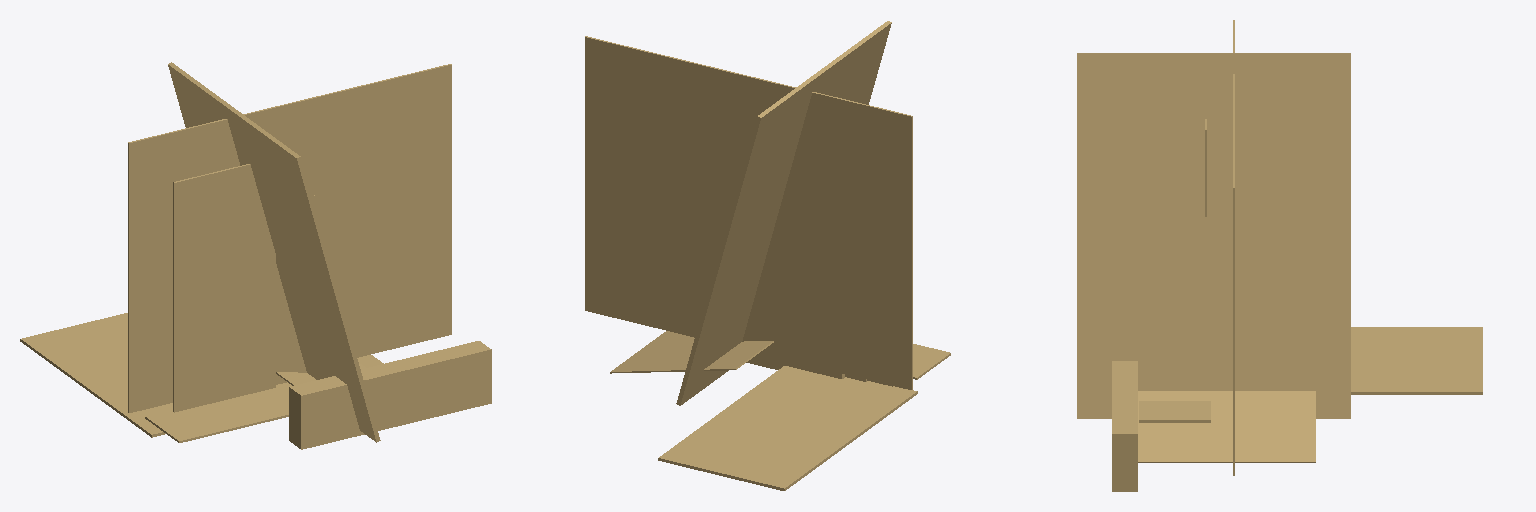
URDF robot description (evolved_design):
<?xml version="1.0" ?>
<robot name="evolved_design">
  <link name="base_link">
    <inertial>
      <mass value="0.001"/>
      <origin xyz="0 0 0" rpy="0 0 0"/>
      <inertia ixx="0.000001" ixy="0" ixz="0" iyy="0.000001" iyz="0" izz="0.000001"/>
    </inertial>
  </link>
  <link name="link_comp_0">
    <inertial>
      <mass value="0.148226"/>
      <origin xyz="0 0 0" rpy="0 0 0"/>
      <inertia ixx="0.000202359" ixy="0" ixz="0" iyy="0.000424693" iyz="0" izz="0.000226318"/>
    </inertial>
    <visual>
      <origin xyz="0 0 0" rpy="0 0 0"/>
      <geometry>
        <box size="0.134762 0.012700 0.127362"/>
      </geometry>
      <material name="link_comp_0_material">
        <color rgba="0.8 0.7 0.5 1"/>
      </material>
    </visual>
    <collision>
      <origin xyz="0 0 0" rpy="0 0 0"/>
      <geometry>
        <box size="0.134762 0.012700 0.127362"/>
      </geometry>
    </collision>
  </link>
  <joint name="base_link_to_link_comp_0" type="fixed">
    <parent link="base_link"/>
    <child link="link_comp_0"/>
    <origin xyz="0.067381 0.006350 0.063681" rpy="0.000000 0.000000 0.000000"/>
  </joint>
  <link name="link_comp_1">
    <inertial>
      <mass value="0.228196"/>
      <origin xyz="0 0 0" rpy="0 0 0"/>
      <inertia ixx="0.000365622" ixy="0" ixz="0" iyy="0.004943317" iyz="0" izz="0.005308082"/>
    </inertial>
    <visual>
      <origin xyz="0 0 0" rpy="0 0 0"/>
      <geometry>
        <box size="0.509832 0.138579 0.004750"/>
      </geometry>
      <material name="link_comp_1_material">
        <color rgba="0.8 0.7 0.5 1"/>
      </material>
    </visual>
    <collision>
      <origin xyz="0 0 0" rpy="0 0 0"/>
      <geometry>
        <box size="0.509832 0.138579 0.004750"/>
      </geometry>
    </collision>
  </link>
  <joint name="base_link_to_link_comp_1" type="fixed">
    <parent link="base_link"/>
    <child link="link_comp_1"/>
    <origin xyz="0.088088 -0.069790 0.056170" rpy="0.000000 0.000000 0.000000"/>
  </joint>
  <link name="link_comp_2">
    <inertial>
      <mass value="0.681705"/>
      <origin xyz="0 0 0" rpy="0 0 0"/>
      <inertia ixx="0.016380963" ixy="0" ixz="0" iyy="0.004913390" iyz="0" izz="0.021289772"/>
    </inertial>
    <visual>
      <origin xyz="0 0 0" rpy="0 0 0"/>
      <geometry>
        <box size="0.294023 0.536947 0.006350"/>
      </geometry>
      <material name="link_comp_2_material">
        <color rgba="0.8 0.7 0.5 1"/>
      </material>
    </visual>
    <collision>
      <origin xyz="0 0 0" rpy="0 0 0"/>
      <geometry>
        <box size="0.294023 0.536947 0.006350"/>
      </geometry>
    </collision>
  </link>
  <joint name="base_link_to_link_comp_2" type="fixed">
    <parent link="base_link"/>
    <child link="link_comp_2"/>
    <origin xyz="-0.013015 0.253593 0.018326" rpy="0.000000 0.000000 0.000000"/>
  </joint>
  <link name="link_comp_3">
    <inertial>
      <mass value="0.253974"/>
      <origin xyz="0 0 0" rpy="0 0 0"/>
      <inertia ixx="0.003220805" ixy="0" ixz="0" iyy="0.001924868" iyz="0" izz="0.005145247"/>
    </inertial>
    <visual>
      <origin xyz="0 0 0" rpy="0 0 0"/>
      <geometry>
        <box size="0.301559 0.390089 0.003175"/>
      </geometry>
      <material name="link_comp_3_material">
        <color rgba="0.8 0.7 0.5 1"/>
      </material>
    </visual>
    <collision>
      <origin xyz="0 0 0" rpy="0 0 0"/>
      <geometry>
        <box size="0.301559 0.390089 0.003175"/>
      </geometry>
    </collision>
  </link>
  <joint name="base_link_to_link_comp_3" type="fixed">
    <parent link="base_link"/>
    <child link="link_comp_3"/>
    <origin xyz="0.286042 0.005262 0.049143" rpy="0.000000 0.252251 0.000000"/>
  </joint>
  <link name="link_comp_4">
    <inertial>
      <mass value="2.429465"/>
      <origin xyz="0 0 0" rpy="0 0 0"/>
      <inertia ixx="0.158677460" ixy="0" ixz="0" iyy="0.102332382" iyz="0" izz="0.056381814"/>
    </inertial>
    <visual>
      <origin xyz="0 0 0" rpy="0 0 0"/>
      <geometry>
        <box size="0.009525 0.527636 0.710891"/>
      </geometry>
      <material name="link_comp_4_material">
        <color rgba="0.8 0.7 0.5 1"/>
      </material>
    </visual>
    <collision>
      <origin xyz="0 0 0" rpy="0 0 0"/>
      <geometry>
        <box size="0.009525 0.527636 0.710891"/>
      </geometry>
    </collision>
  </link>
  <joint name="base_link_to_link_comp_4" type="fixed">
    <parent link="base_link"/>
    <child link="link_comp_4"/>
    <origin xyz="0.140025 0.004392 0.355445" rpy="0.000000 -0.268840 0.000000"/>
  </joint>
  <link name="link_comp_5">
    <inertial>
      <mass value="1.862177"/>
      <origin xyz="0 0 0" rpy="0 0 0"/>
      <inertia ixx="0.002698756" ixy="0" ixz="0" iyy="0.033571621" iyz="0" izz="0.031648772"/>
    </inertial>
    <visual>
      <origin xyz="0 0 0" rpy="0 0 0"/>
      <geometry>
        <box size="0.448828 0.050000 0.122029"/>
      </geometry>
      <material name="link_comp_5_material">
        <color rgba="0.8 0.7 0.5 1"/>
      </material>
    </visual>
    <collision>
      <origin xyz="0 0 0" rpy="0 0 0"/>
      <geometry>
        <box size="0.448828 0.050000 0.122029"/>
      </geometry>
    </collision>
  </link>
  <joint name="base_link_to_link_comp_5" type="fixed">
    <parent link="base_link"/>
    <child link="link_comp_5"/>
    <origin xyz="0.316011 -0.166044 0.061014" rpy="0.000000 0.000000 0.000000"/>
  </joint>
  <link name="link_comp_6">
    <inertial>
      <mass value="0.447775"/>
      <origin xyz="0 0 0" rpy="0 0 0"/>
      <inertia ixx="0.012396450" ixy="0" ixz="0" iyy="0.014554545" iyz="0" izz="0.002159779"/>
    </inertial>
    <visual>
      <origin xyz="0 0 0" rpy="0 0 0"/>
      <geometry>
        <box size="0.240536 0.004750 0.576361"/>
      </geometry>
      <material name="link_comp_6_material">
        <color rgba="0.8 0.7 0.5 1"/>
      </material>
    </visual>
    <collision>
      <origin xyz="0 0 0" rpy="0 0 0"/>
      <geometry>
        <box size="0.240536 0.004750 0.576361"/>
      </geometry>
    </collision>
  </link>
  <joint name="base_link_to_link_comp_6" type="fixed">
    <parent link="base_link"/>
    <child link="link_comp_6"/>
    <origin xyz="0.014494 -0.010823 0.288181" rpy="0.000000 0.000000 0.000000"/>
  </joint>
  <link name="link_comp_7">
    <inertial>
      <mass value="0.138134"/>
      <origin xyz="0 0 0" rpy="0 0 0"/>
      <inertia ixx="0.002485547" ixy="0" ixz="0" iyy="0.003432714" iyz="0" izz="0.000947220"/>
    </inertial>
    <visual>
      <origin xyz="0 0 0" rpy="0 0 0"/>
      <geometry>
        <box size="0.286853 0.001524 0.464674"/>
      </geometry>
      <material name="link_comp_7_material">
        <color rgba="0.8 0.7 0.5 1"/>
      </material>
    </visual>
    <collision>
      <origin xyz="0 0 0" rpy="0 0 0"/>
      <geometry>
        <box size="0.286853 0.001524 0.464674"/>
      </geometry>
    </collision>
  </link>
  <joint name="base_link_to_link_comp_7" type="fixed">
    <parent link="base_link"/>
    <child link="link_comp_7"/>
    <origin xyz="0.094326 -0.001262 0.232337" rpy="0.000000 0.000000 0.000000"/>
  </joint>
  <link name="link_comp_8">
    <inertial>
      <mass value="1.500321"/>
      <origin xyz="0 0 0" rpy="0 0 0"/>
      <inertia ixx="0.046464279" ixy="0" ixz="0" iyy="0.119057487" iyz="0" izz="0.072598849"/>
    </inertial>
    <visual>
      <origin xyz="0 0 0" rpy="0 0 0"/>
      <geometry>
        <box size="0.762000 0.004750 0.609600"/>
      </geometry>
      <material name="link_comp_8_material">
        <color rgba="0.8 0.7 0.5 1"/>
      </material>
    </visual>
    <collision>
      <origin xyz="0 0 0" rpy="0 0 0"/>
      <geometry>
        <box size="0.762000 0.004750 0.609600"/>
      </geometry>
    </collision>
  </link>
  <joint name="base_link_to_link_comp_8" type="fixed">
    <parent link="base_link"/>
    <child link="link_comp_8"/>
    <origin xyz="0.200227 0.042882 0.357169" rpy="0.000000 0.000000 0.000000"/>
  </joint>
</robot>

--- What the picture shows (computed from the rendered views, not written in the file) ---
The picture shows the robot from 3 angles, left to right: view 1: azimuth 30°, elevation 25°; view 2: azimuth 150°, elevation 25°; view 3: azimuth 270°, elevation 25°; orthographic projection.
Model evolved_design with 10 links and 9 joints (9 fixed), rooted at base_link, posed every joint at zero.
Visible links, largest first — view 1: link_comp_8, link_comp_6, link_comp_4, link_comp_5, link_comp_2, link_comp_1, link_comp_7, link_comp_3; view 2: link_comp_8, link_comp_4, link_comp_2, link_comp_3, link_comp_1; view 3: link_comp_4, link_comp_3, link_comp_2, link_comp_5, link_comp_1, link_comp_8.
Boxes of the visible links, x1,y1,x2,y2 form: link_comp_8: (128,64,451,412); link_comp_6: (173,164,275,412); link_comp_4: (168,62,380,442); link_comp_5: (289,341,491,449); link_comp_2: (20,313,172,437); link_comp_1: (145,364,365,442); link_comp_7: (276,195,316,384); link_comp_3: (276,355,383,385); link_comp_8: (585,36,912,389); link_comp_4: (676,21,891,405); link_comp_2: (658,366,917,490); link_comp_3: (610,331,773,373); link_comp_1: (913,344,950,379); link_comp_4: (1077,53,1350,418); link_comp_3: (1138,391,1315,462); link_comp_2: (1351,327,1482,394); link_comp_5: (1112,361,1137,491); link_comp_1: (1139,401,1210,422); link_comp_8: (1233,20,1234,475).
Bounding box of the posed robot: 0.762 × 0.7815 × 0.6994 m (x, y, z).
Geometry: primitives only (box / cylinder / sphere), no mesh files.